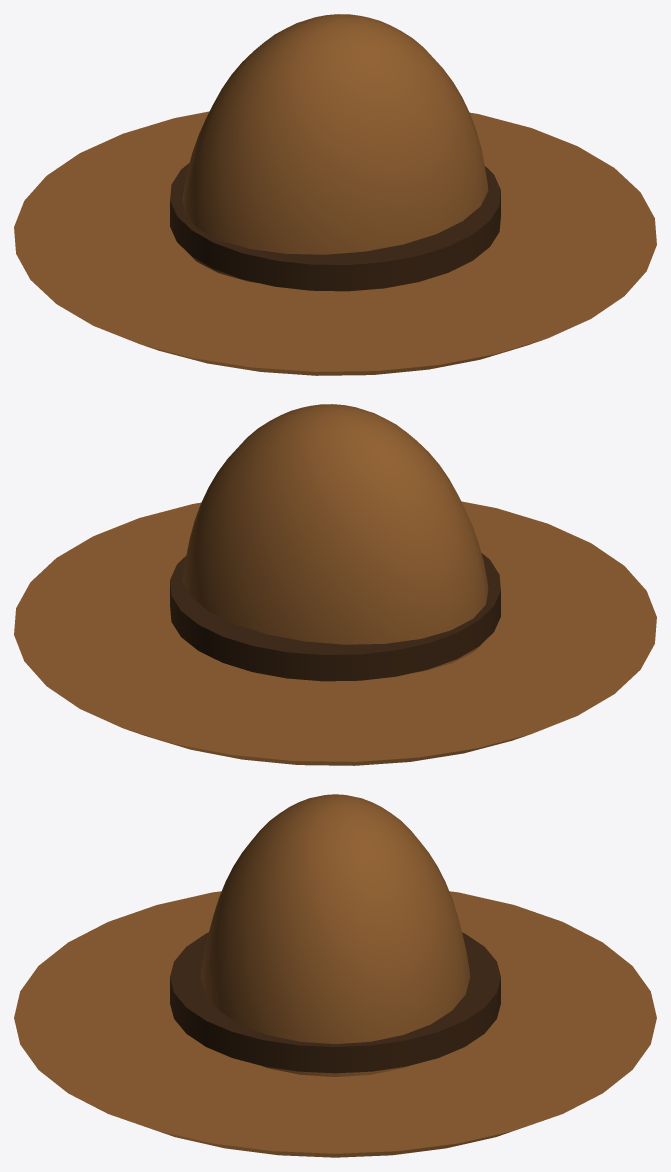
The model's file is cowboy.glb.
3 views of the same model, one above another, from view 1: azimuth 30°, elevation 25°; view 2: azimuth 150°, elevation 25°; view 3: azimuth 270°, elevation 25° (orthographic).
Parts seen in each view (by area): view 1: cowboy; view 2: cowboy; view 3: cowboy.
Boxes of the visible parts, bbox=[...] form: cowboy: bbox=[14, 14, 656, 375]; cowboy: bbox=[14, 404, 656, 765]; cowboy: bbox=[14, 794, 656, 1157].
Bounding box in the file's own units: 0.4 × 0.158 × 0.4.
